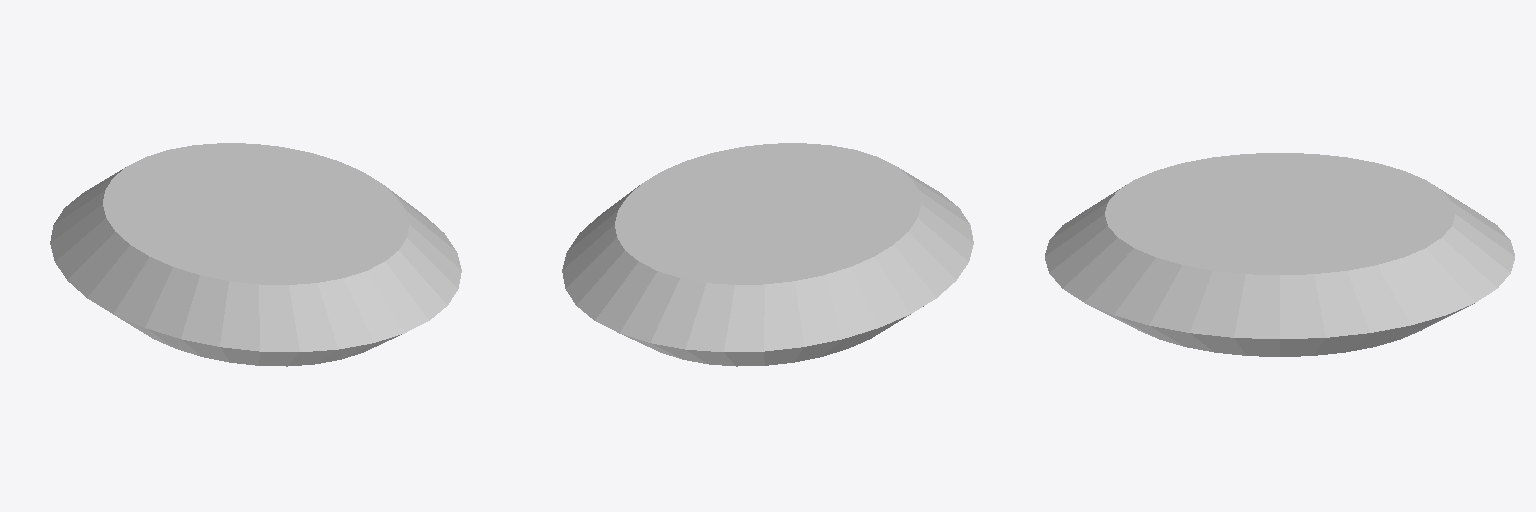
Rendered from load.obj.
3 views of the same model, side by side, from view 1: azimuth 30°, elevation 25°; view 2: azimuth 150°, elevation 25°; view 3: azimuth 270°, elevation 25° (orthographic).
Parts seen in each view (by area): view 1: part5_Cylinder.010; view 2: part5_Cylinder.010; view 3: part5_Cylinder.010.
Part boxes in pixels (x1,y1,x2,y2): part5_Cylinder.010: (50,143,461,366); part5_Cylinder.010: (562,143,973,366); part5_Cylinder.010: (1045,153,1514,356).
Bounding box in the file's own units: 0.5122 × 0.1215 × 0.6185.